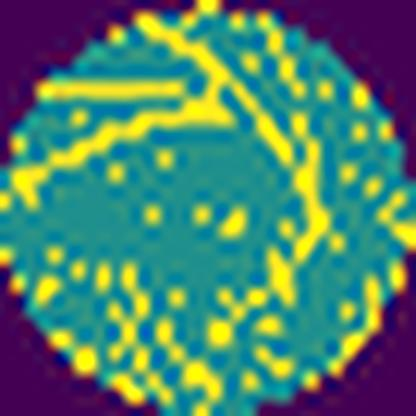Scratch: (9, 13, 336, 263), (37, 76, 188, 106)
